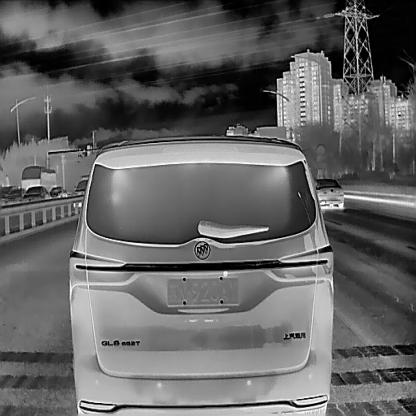bus: (20, 164, 57, 189)
car: (69, 134, 331, 414), (313, 175, 344, 209), (73, 176, 89, 206), (21, 184, 48, 200), (0, 185, 22, 203), (48, 186, 66, 198)
